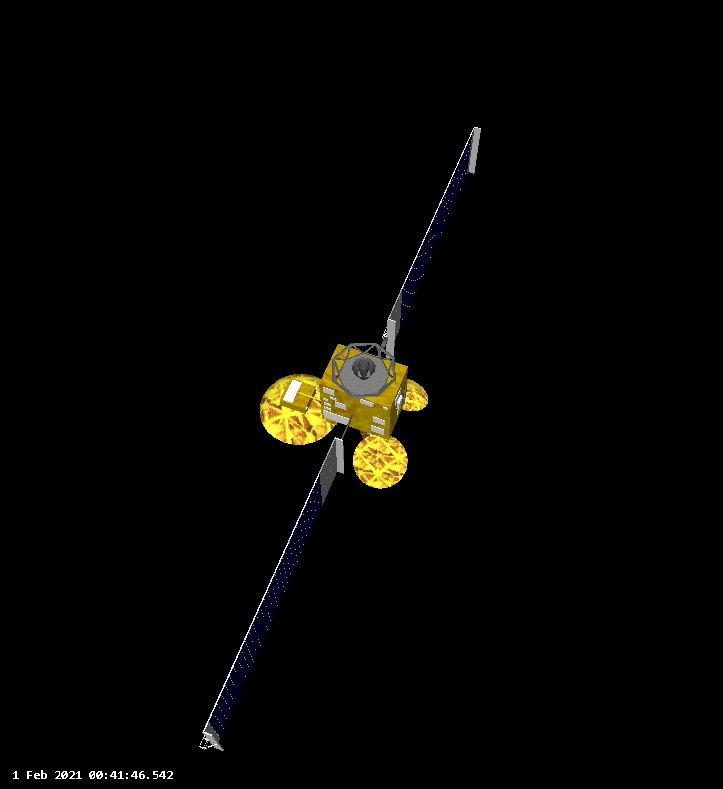antenna: (260, 371, 341, 447), (351, 432, 410, 489), (400, 379, 431, 412)
body: (317, 339, 411, 439)
solar: (198, 435, 346, 754), (386, 121, 480, 361)
thruster: (355, 358, 372, 379)
